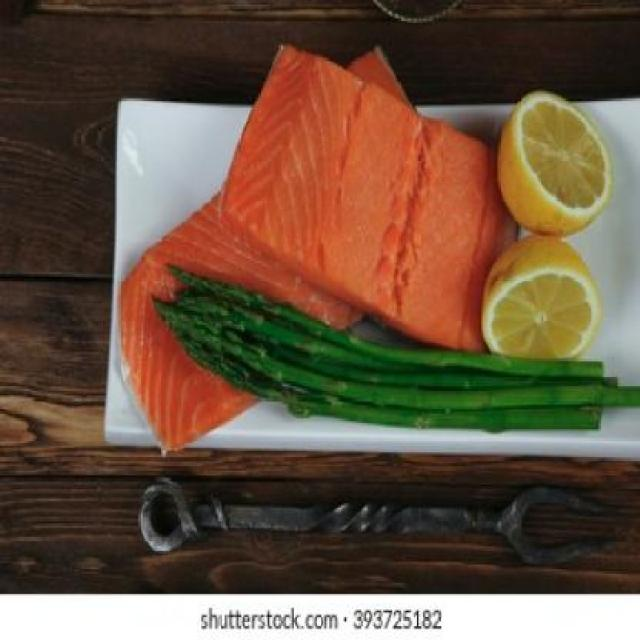salmon: (83, 52, 492, 455), (214, 28, 555, 350)
